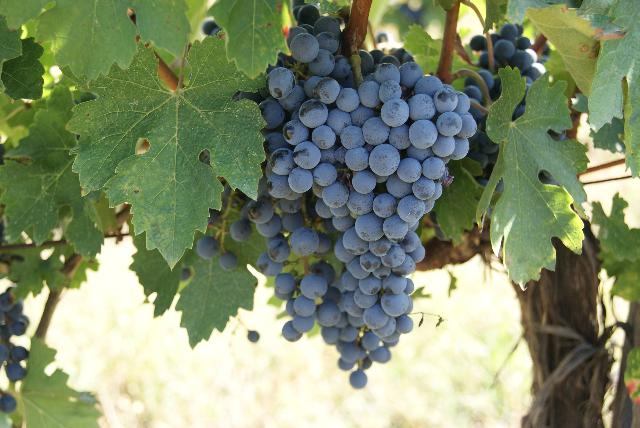grapes: (274, 62, 478, 345)
